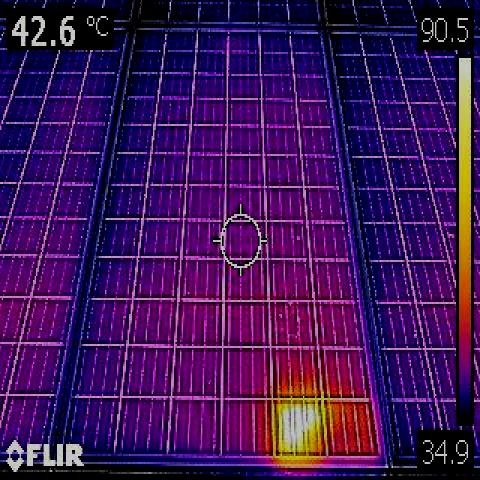fault: (269, 393, 330, 461)
